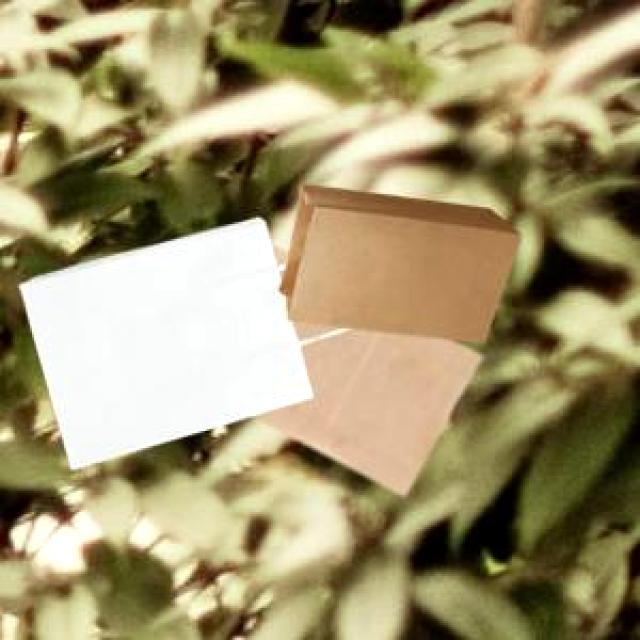Paper_Bag: (16, 214, 345, 466), (250, 240, 477, 492), (276, 182, 518, 340)
